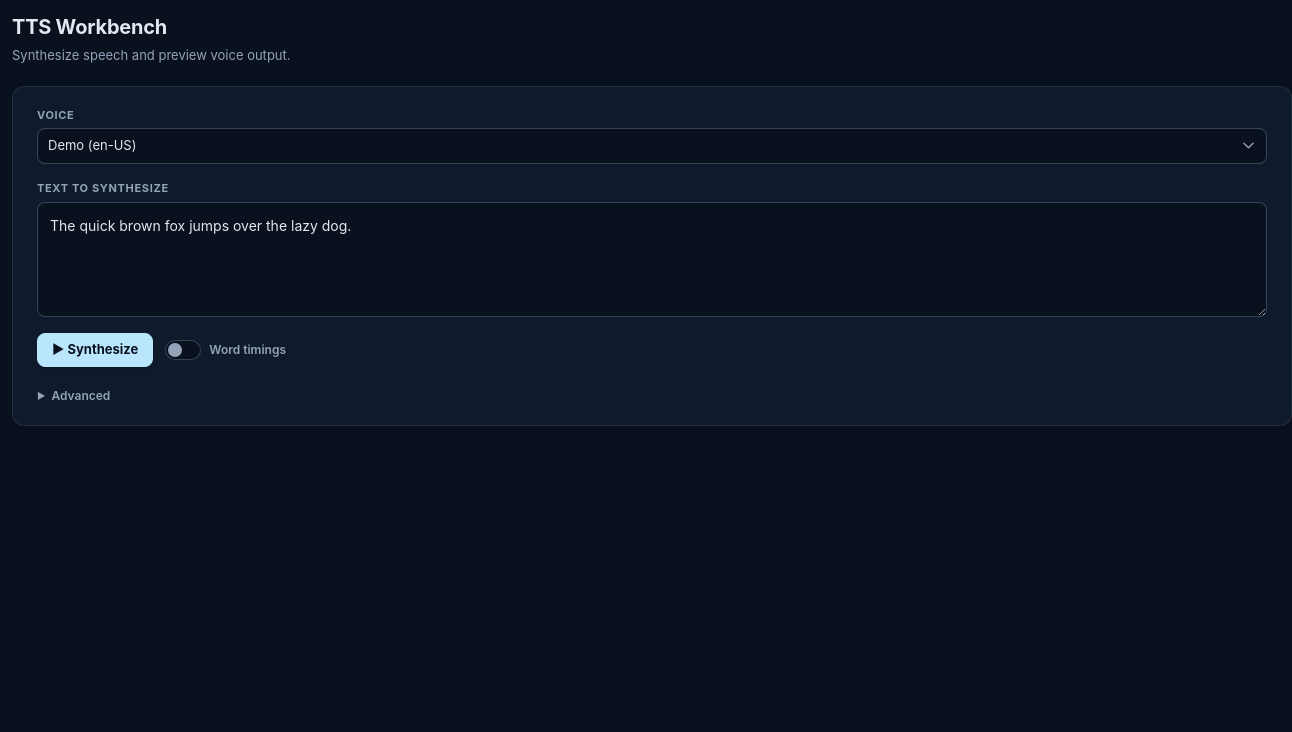
Test: PlaygroundPanel › advanced options toggle expands and collapses override model ID field
The image size is (1292, 732).
Check: the field labelled "Override model ID" is not shown
Click the button "Advanced": [81, 396] box [37,387,1267,405]
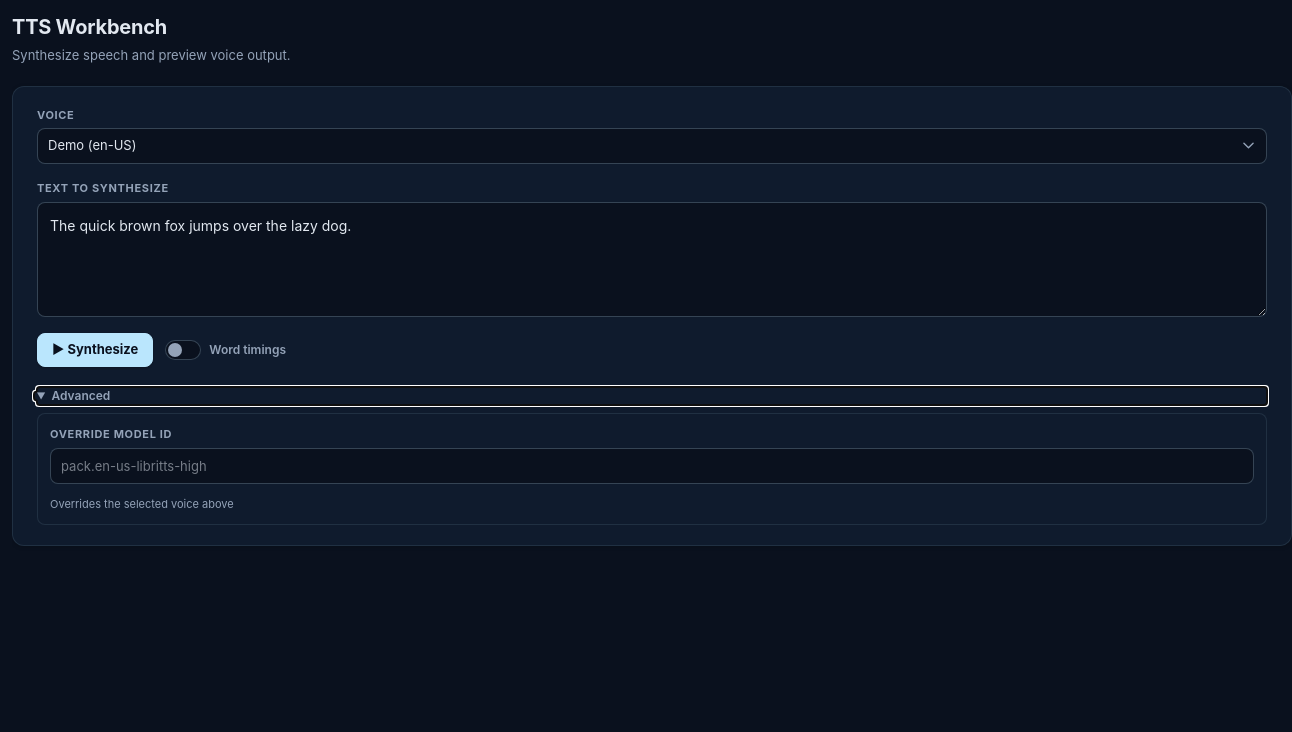
Check: the button "Advanced" is expanded
Check: the field labelled "Override model ID" is shown, box [50,448,1254,484]
Check: the text "Overrides the selected voice above" is shown, box [50,497,234,511]
Click the button "Advanced": [81, 396] box [37,387,1267,405]
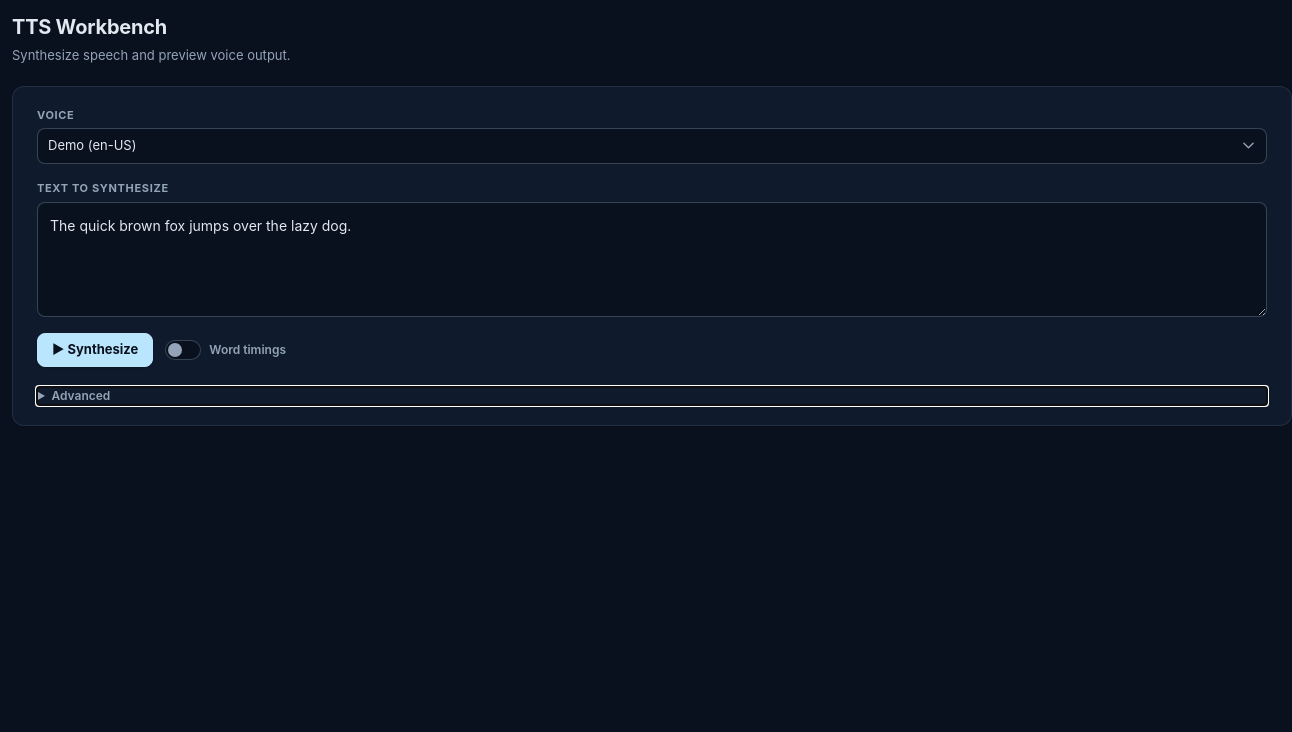
Check: the button "Advanced" is collapsed, box [37,387,1267,405]
Check: the label labelled "Override model ID" is gone
